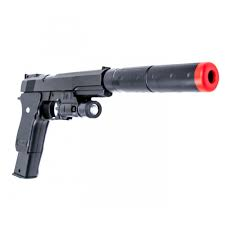Arma Falsa: (13, 62, 217, 178)
